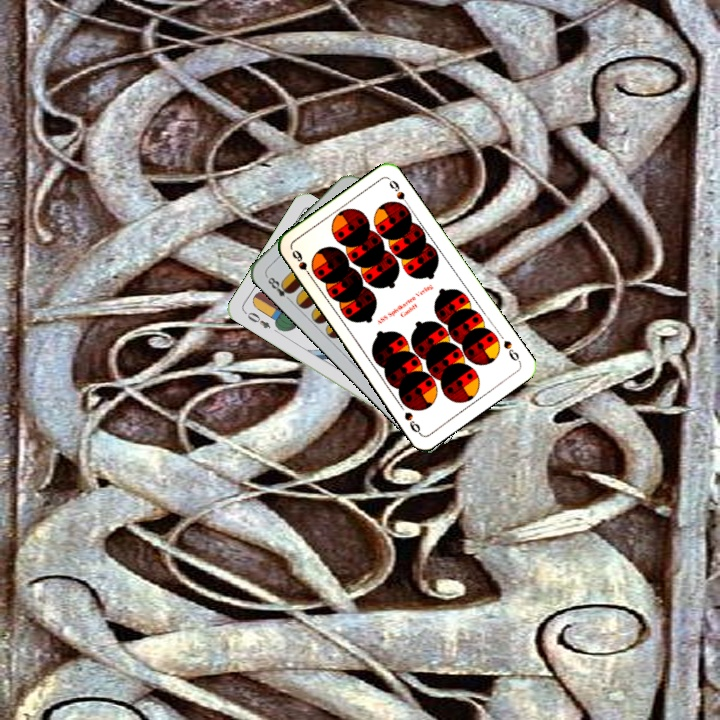E8: (262, 271, 296, 304)
EO: (240, 307, 273, 331)
S9: (288, 246, 316, 282), (499, 336, 523, 365)
